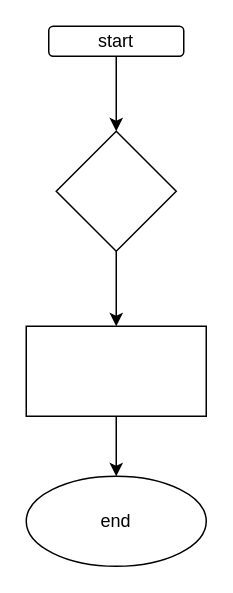
This 233x593 diagram has some shape labels left out. The shapes that lost their labels are listed below. From the top down, each one's box as (x1, y1, x2, y2) in pixels, then its label:
(55, 130, 176, 251): IF jsonservice not undefined
(25, 325, 206, 416): Assign json service communication
